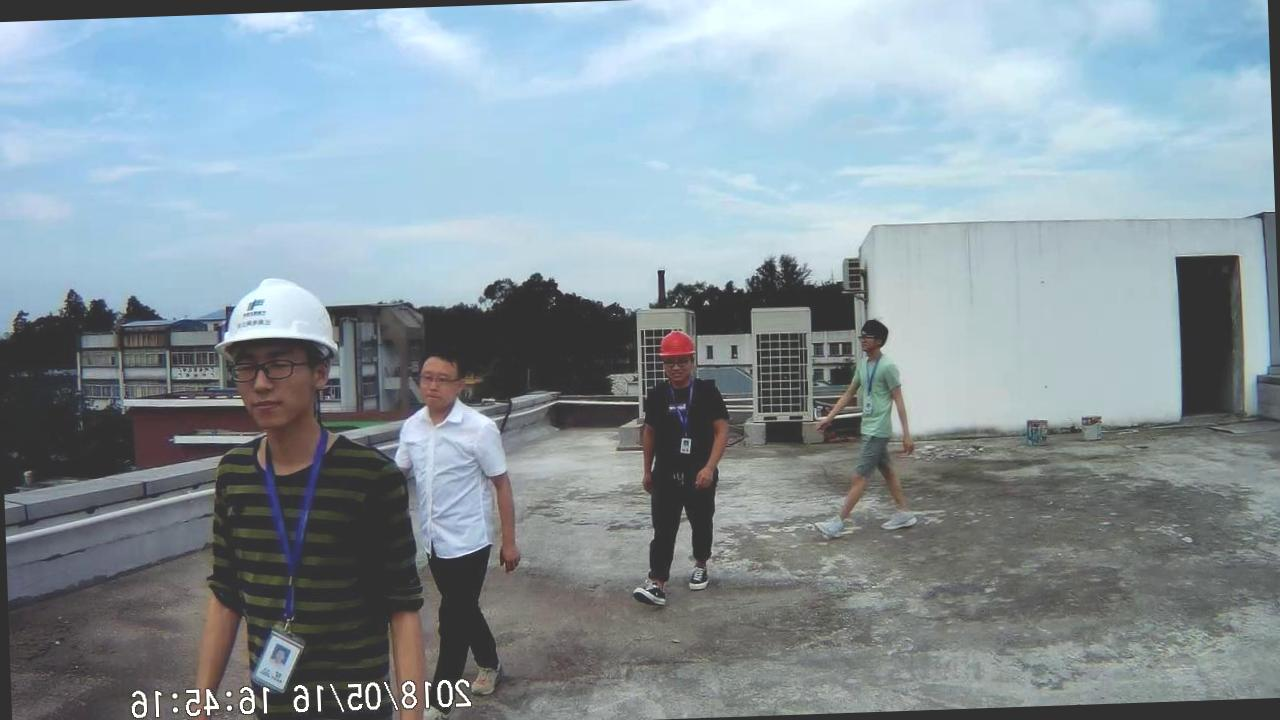helmet: (203, 273, 344, 359), (643, 325, 705, 363)
no_vest: (212, 426, 378, 644), (398, 398, 494, 544), (648, 372, 712, 480), (847, 348, 896, 421)
person: (190, 264, 420, 700), (398, 344, 528, 706), (626, 330, 748, 612), (812, 310, 924, 542)
